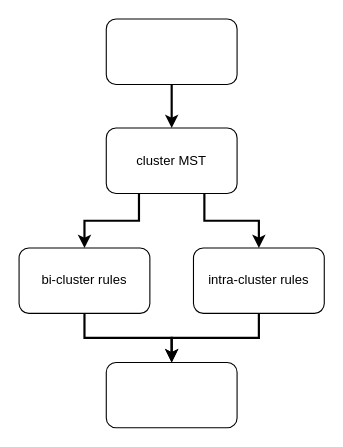
The diagram is 343 pixels wide and 447 high, and some of its shapes have lost their labels. The centre of each missing label's shape, as x and y in pixels:
"MST" goes at point 171,51.
"prune rules" goes at point 171,394.
